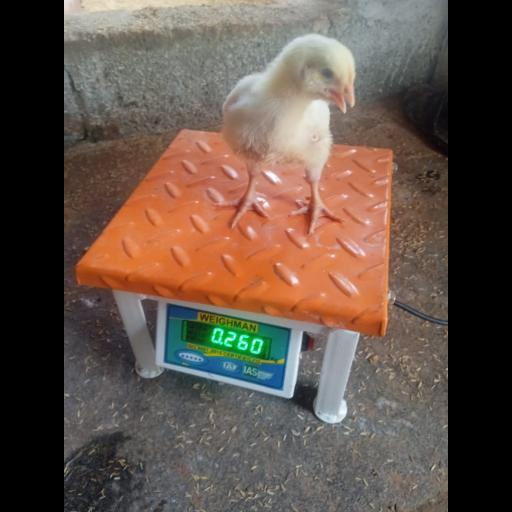chick: (216, 35, 356, 236)
